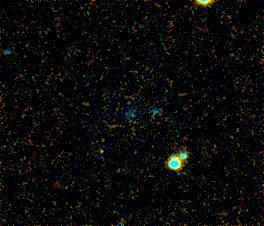star: (84, 136, 114, 166)
